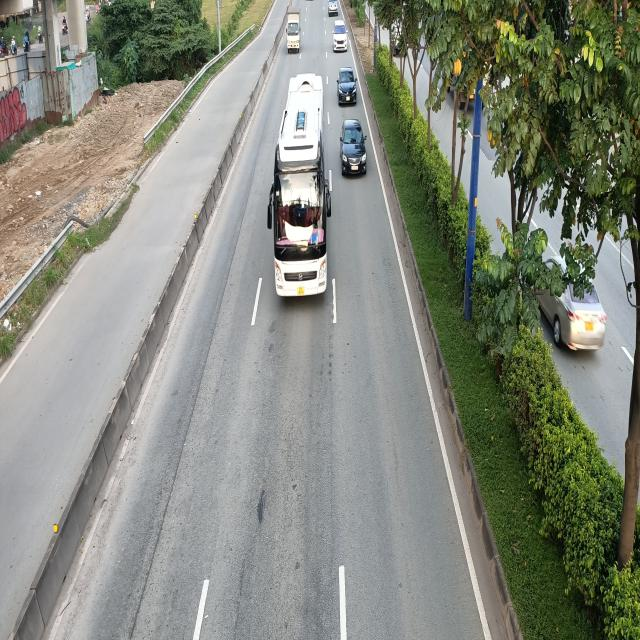car: (340, 118, 368, 176), (337, 67, 359, 106), (333, 22, 349, 54)
coach: (268, 71, 330, 299)
truck: (285, 7, 301, 52)
